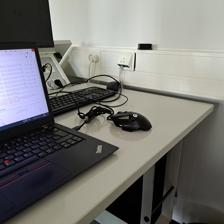mouse: (112, 110, 152, 132)
